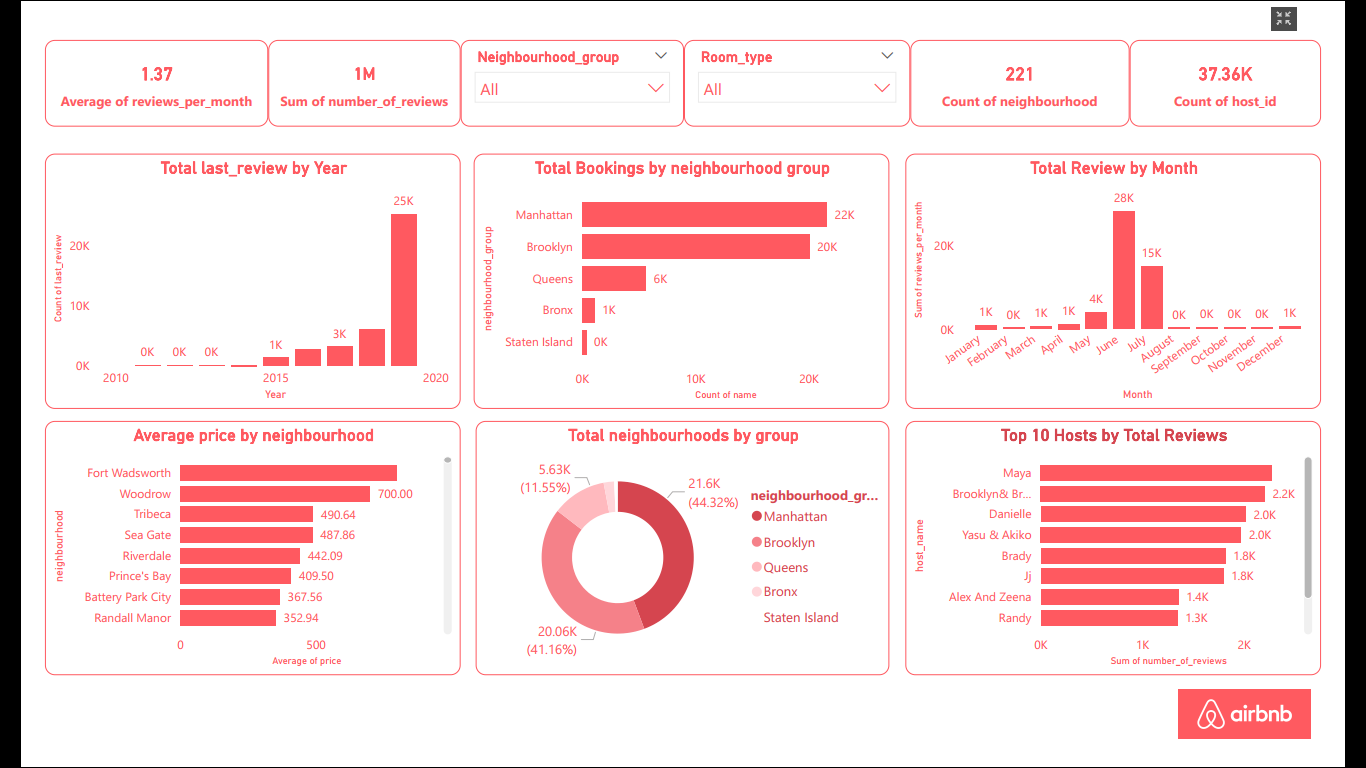

This screenshot's page, from the dashboard's own definition file:
{"tool":"powerbi","page":{"name":"Page 1","canvas":[1280,720],"ordinal":0},"visuals":[{"type":"slicer","fields":{"Values":["AB_NYC_2019.neighbourhood_group"]},"box":[416.9,15.3,223.7,86.4],"z":0},{"type":"slicer","fields":{"Values":["AB_NYC_2019.room_type"]},"box":[640.6,15.3,227.1,86.4],"z":1000},{"type":"card","fields":{"Values":["AB_NYC_2019.number_of_reviews"]},"box":[223.7,15.3,193.2,86.4],"z":2000},{"type":"card","fields":{"Values":["AB_NYC_2019.reviews_per_month"]},"box":[0,15.3,223.7,86.4],"z":3000},{"type":"card","fields":{"Values":["AB_NYC_2019.neighbourhood"]},"box":[867.7,15.3,220.3,86.4],"z":4000},{"type":"card","fields":{"Values":["AB_NYC_2019.host_id"]},"box":[1088,15.3,191.5,86.4],"z":5000},{"type":"clusteredColumnChart","title":"Total  last_review by Year","fields":{"Category":["AB_NYC_2019.last_review.Variation.Date Hierarchy.Year"],"Y":["AB_NYC_2019.last_review"]},"box":[0,128.8,416.9,255.9],"z":6000},{"type":"clusteredColumnChart","title":"Total  Review by Month","fields":{"Category":["AB_NYC_2019.last_review.Variation.Date Hierarchy.Month"],"Y":["AB_NYC_2019.reviews_per_month"]},"box":[862.6,128.8,416.9,255.9],"z":7000},{"type":"clusteredBarChart","title":"Total Bookings by neighbourhood group","fields":{"Category":["AB_NYC_2019.neighbourhood_group"],"Y":["AB_NYC_2019.name"]},"box":[430.5,128.8,416.9,255.9],"z":8000},{"type":"clusteredBarChart","title":"Average price by neighbourhood","fields":{"Category":["AB_NYC_2019.neighbourhood"],"Y":["AB_NYC_2019.price"]},"box":[0,396.6,416.9,255.9],"z":9000},{"type":"clusteredBarChart","title":"Top 10 Hosts by Total Reviews","fields":{"Category":["AB_NYC_2019.host_name"],"Y":["AB_NYC_2019.number_of_reviews"]},"box":[862.6,396.6,416.9,255.9],"z":10000},{"type":"donutChart","title":"Total neighbourhoods by group ","fields":{"Category":["AB_NYC_2019.neighbourhood_group"],"Y":["AB_NYC_2019.neighbourhood"]},"box":[432.2,396.6,415.2,255.9],"z":11000},{"type":"image","box":[1125.3,660.9,154.2,59.3],"z":12000}]}

Visuals, with their boxes in screenshot pixels (x1, y1, x2, y2), scaled from the page's 1280x720 canvas onto the 1366x768 screenshot:
slicer - AB_NYC_2019.neighbourhood_group: 445,16,684,108
slicer - AB_NYC_2019.room_type: 684,16,926,108
card - AB_NYC_2019.number_of_reviews: 239,16,445,108
card - AB_NYC_2019.reviews_per_month: 0,16,239,108
card - AB_NYC_2019.neighbourhood: 926,16,1161,108
card - AB_NYC_2019.host_id: 1161,16,1365,108
"Total  last_review by Year" clusteredColumnChart: 0,137,445,410
"Total  Review by Month" clusteredColumnChart: 921,137,1365,410
"Total Bookings by neighbourhood group" clusteredBarChart: 459,137,904,410
"Average price by neighbourhood" clusteredBarChart: 0,423,445,696
"Top 10 Hosts by Total Reviews" clusteredBarChart: 921,423,1365,696
"Total neighbourhoods by group " donutChart: 461,423,904,696
image: 1201,705,1365,767
